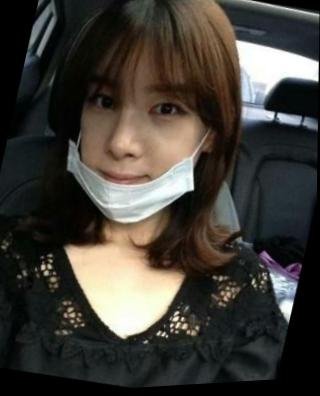WRONG: (49, 54, 229, 241)
